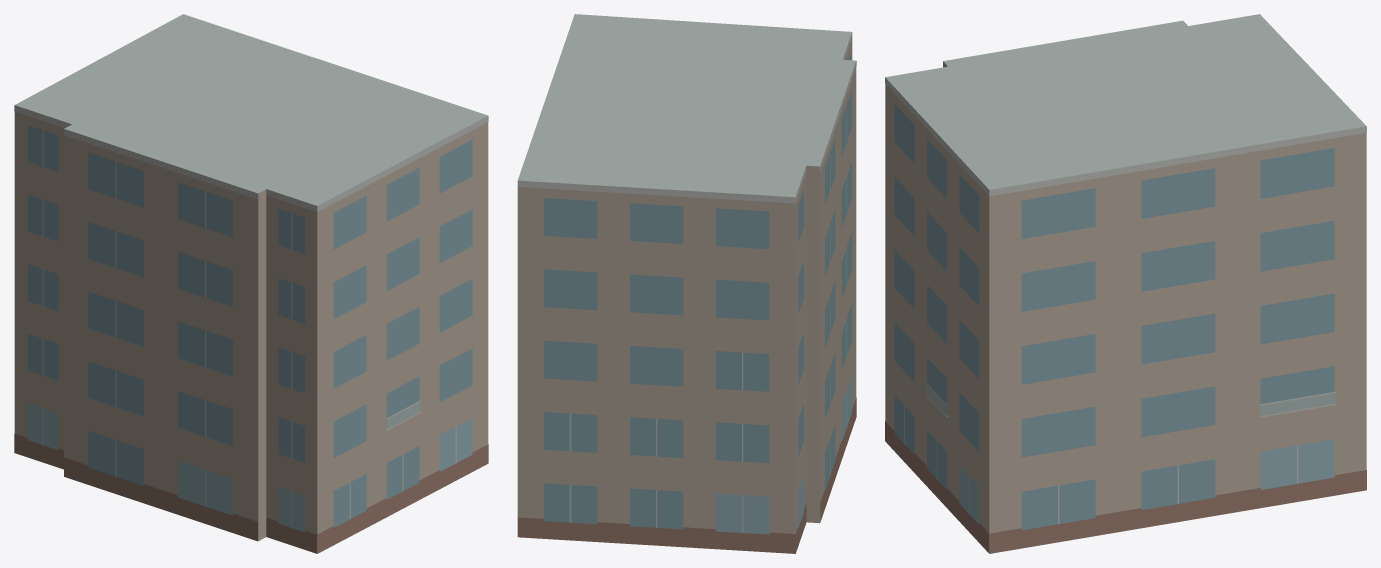
Rendered from survey-upis-32881904.glb.
3 views of the same model, side by side, from view 1: azimuth 30°, elevation 25°; view 2: azimuth 150°, elevation 25°; view 3: azimuth 270°, elevation 25° (orthographic). The views are drawn at different scales.
Visible parts, largest first — view 1: survey-upis-32881904.tmp; view 2: survey-upis-32881904.tmp; view 3: survey-upis-32881904.tmp.
Part boxes in pixels (bbox=[...]): survey-upis-32881904.tmp: bbox=[14, 14, 488, 553]; survey-upis-32881904.tmp: bbox=[517, 14, 856, 553]; survey-upis-32881904.tmp: bbox=[885, 14, 1366, 553].
Size of the model in its own units: 14.32 by 13.8 by 16.57.
